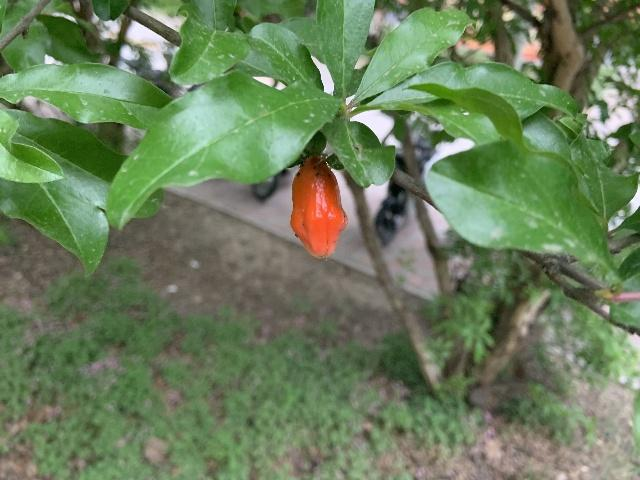bud: (290, 155, 347, 259)
